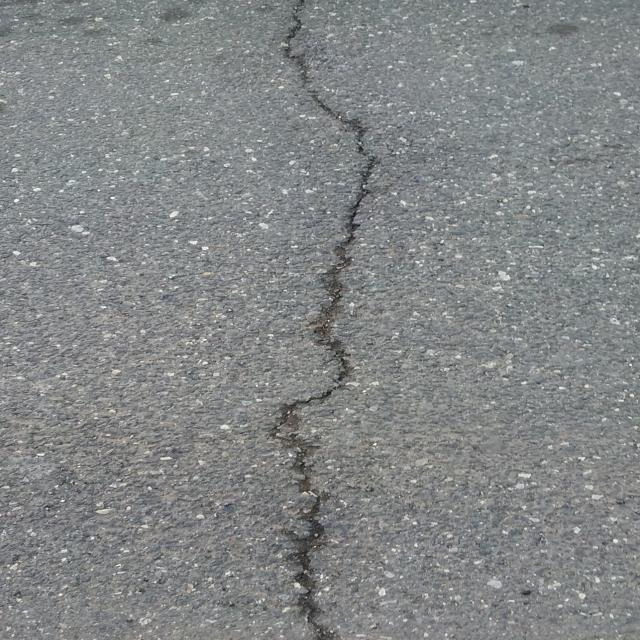Crack: (270, 91, 379, 640), (283, 0, 309, 87)
